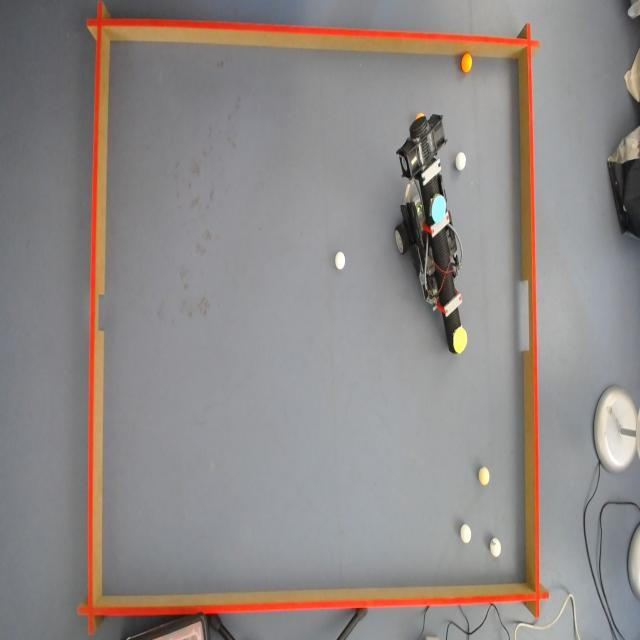orange: (462, 53, 475, 74)
robot: (394, 119, 466, 355)
robot-front: (451, 330, 468, 352)
robot-rear: (429, 192, 447, 224)
white: (478, 466, 491, 486), (459, 523, 471, 543), (490, 538, 502, 558), (335, 252, 346, 271), (456, 152, 466, 170)
